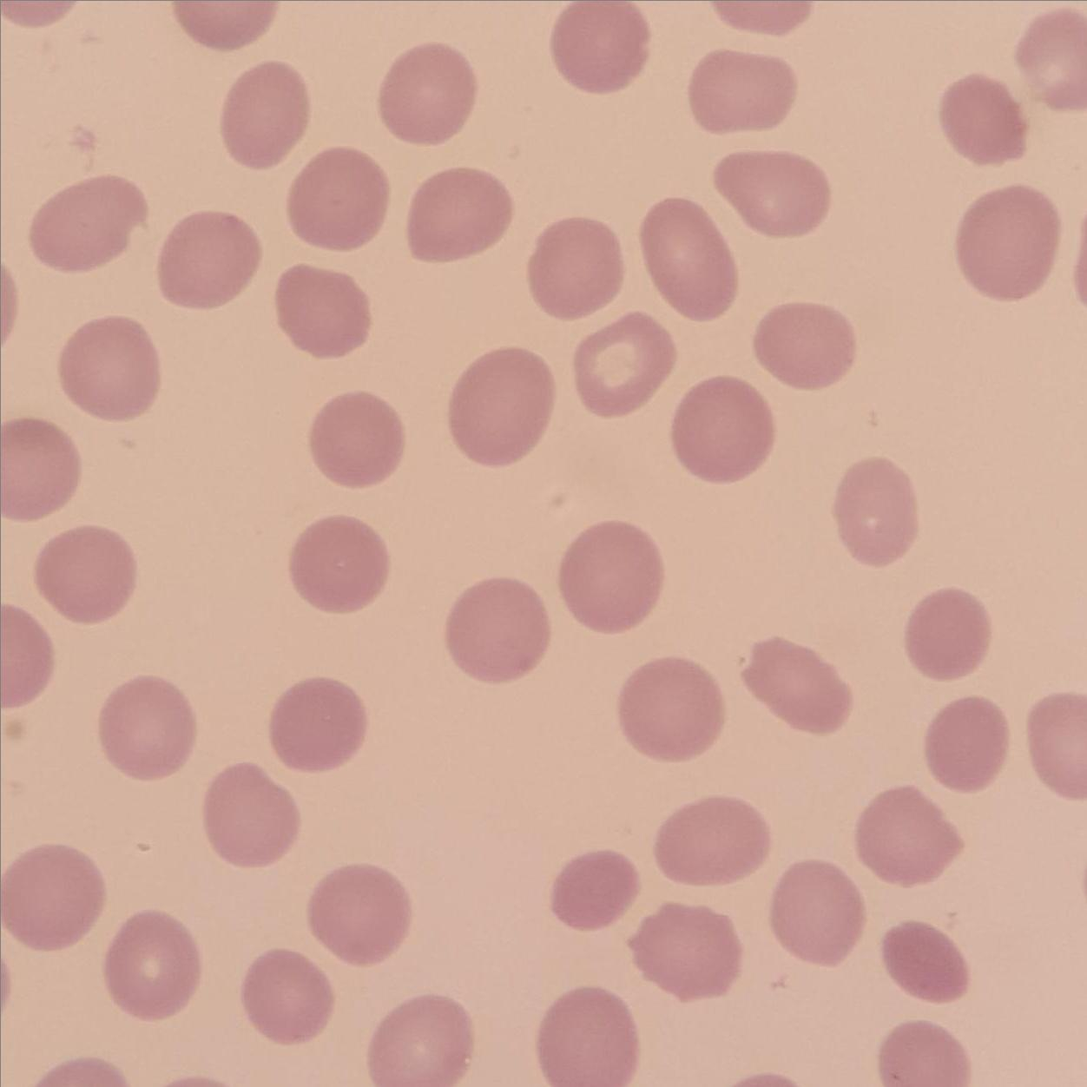Uninfected: (447, 349, 556, 464), (953, 185, 1057, 299), (640, 200, 741, 317), (30, 175, 148, 272), (558, 521, 662, 630), (740, 635, 852, 735), (616, 658, 723, 762), (443, 579, 549, 682), (306, 862, 412, 965), (288, 146, 392, 249), (57, 315, 160, 419), (0, 844, 102, 949), (670, 376, 771, 482), (654, 794, 768, 887), (629, 904, 740, 998), (34, 524, 137, 624), (103, 913, 200, 1019), (572, 312, 672, 413), (856, 787, 959, 885), (378, 41, 478, 141), (291, 515, 392, 614), (716, 149, 829, 237), (201, 765, 299, 866), (157, 210, 259, 307), (536, 989, 638, 1086), (768, 860, 864, 963), (98, 676, 196, 776), (407, 167, 511, 261), (219, 62, 312, 167), (832, 456, 921, 565), (527, 217, 623, 317), (306, 389, 405, 485), (269, 678, 366, 773), (549, 2, 651, 92), (368, 998, 471, 1087), (688, 49, 796, 133), (755, 300, 856, 388), (276, 262, 371, 354), (240, 952, 332, 1045), (904, 587, 992, 681), (924, 695, 1007, 792), (3, 415, 81, 517), (937, 73, 1024, 162), (550, 848, 639, 931), (882, 921, 967, 1000)
